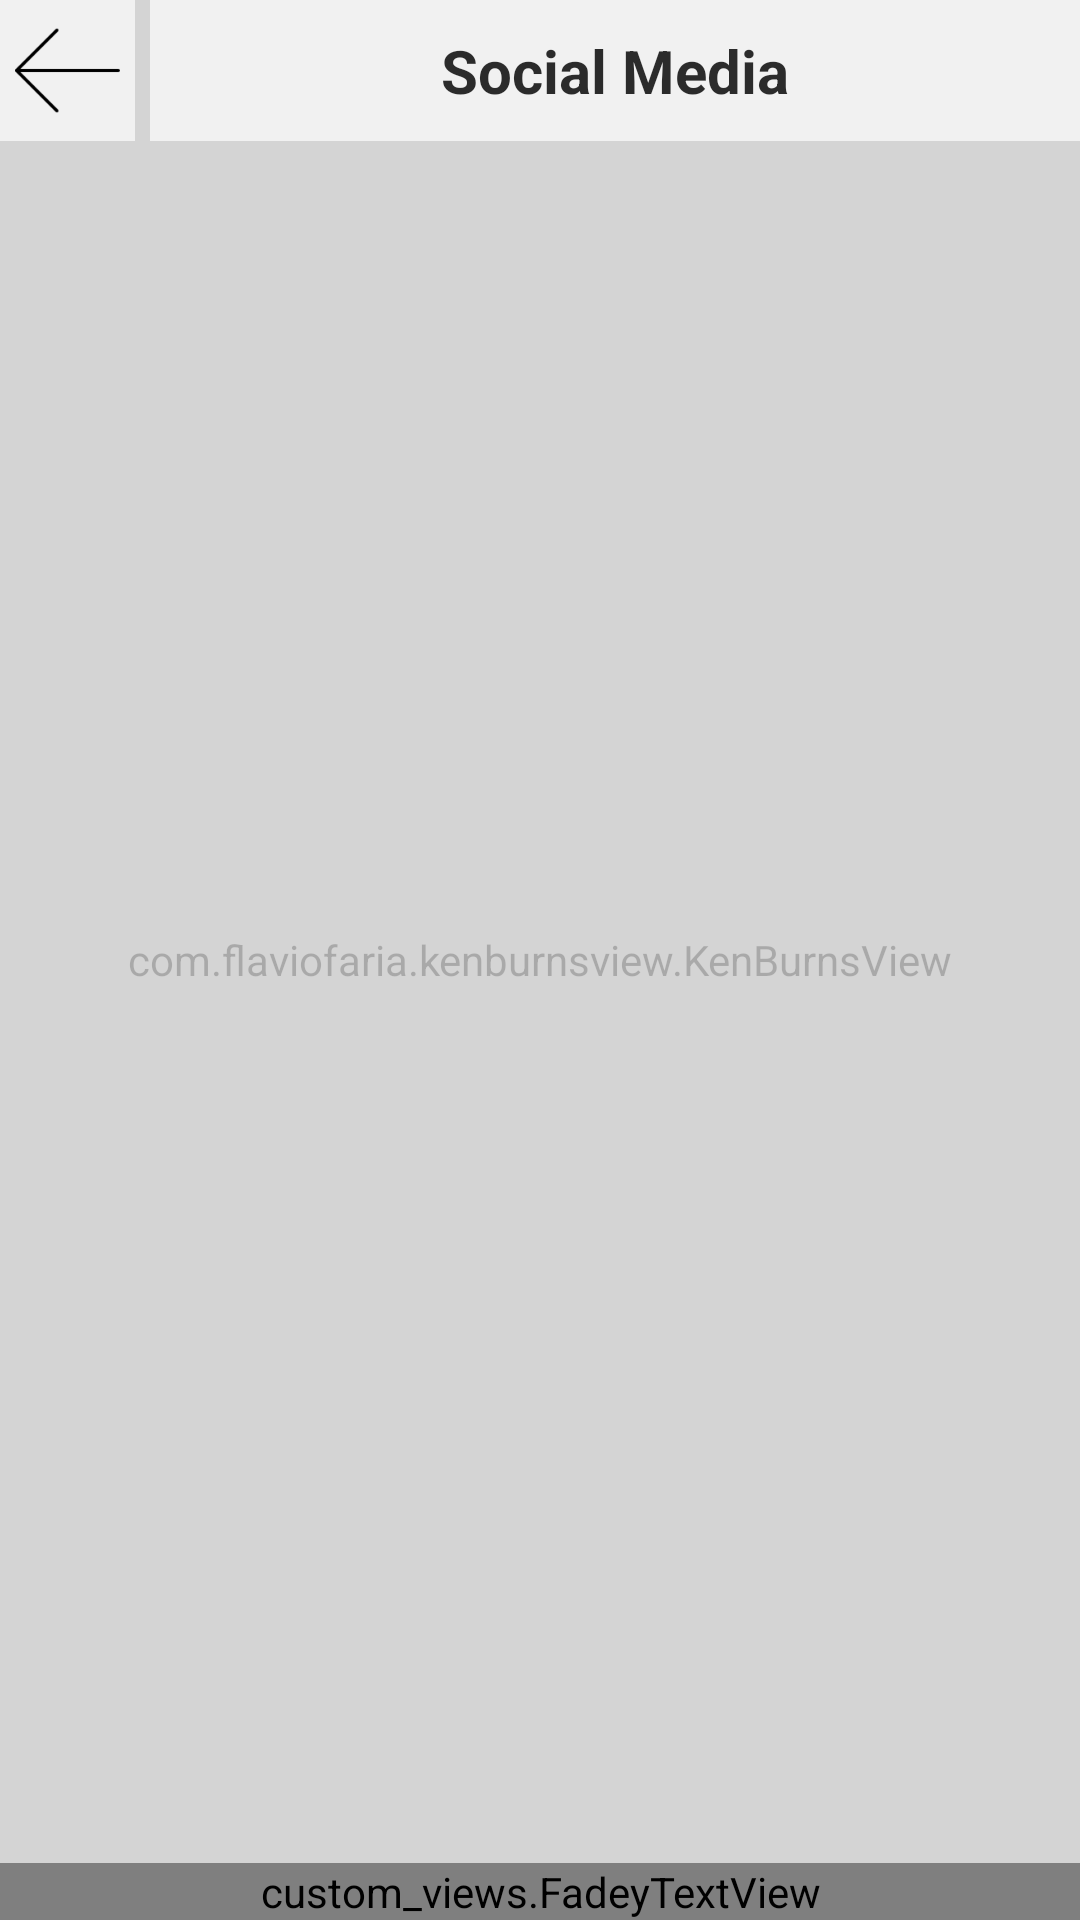

Screen size 1080x1920. Icon name, then its box in pixels as bbox(x1, y1, x2, y2):
back: bbox(0, 0, 135, 141)
